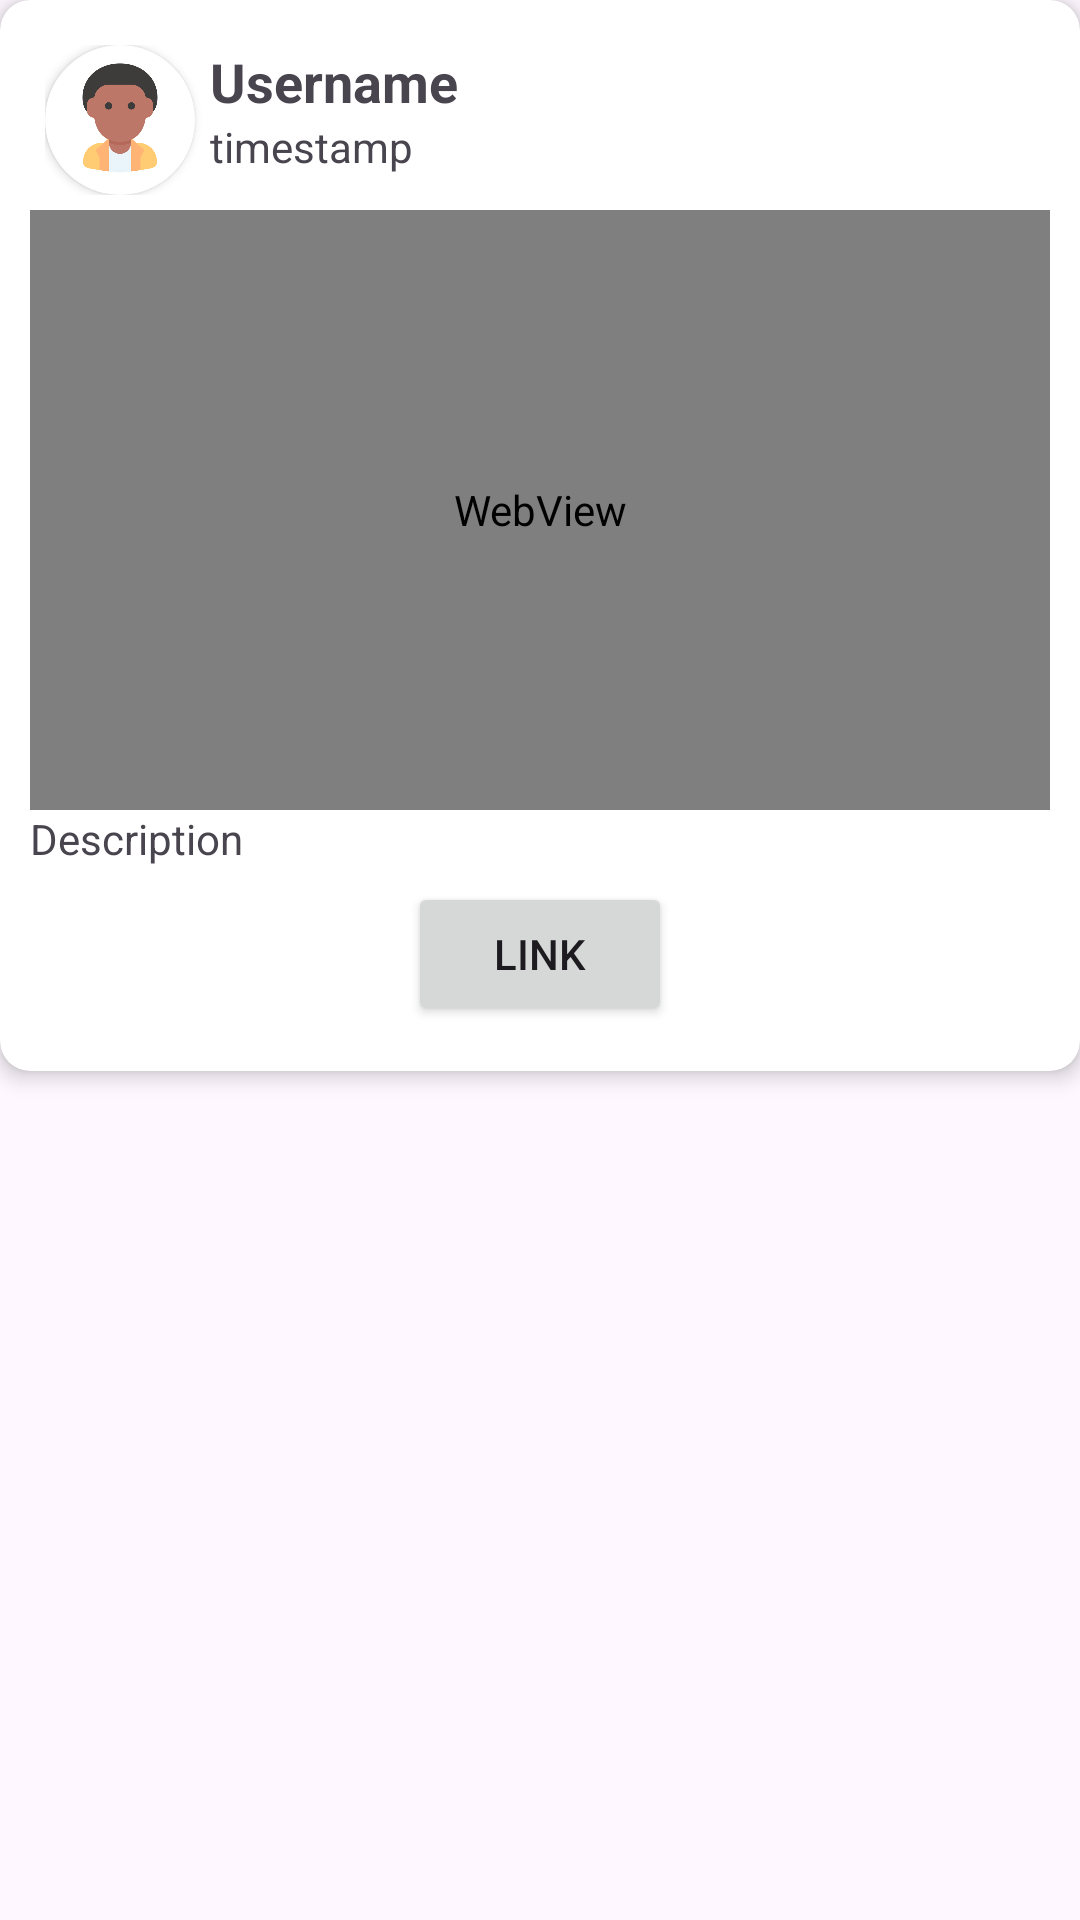

Named icons in this screenshot (1080px×1920px) and their centers, [x,y]:
Profile: [101,121]
